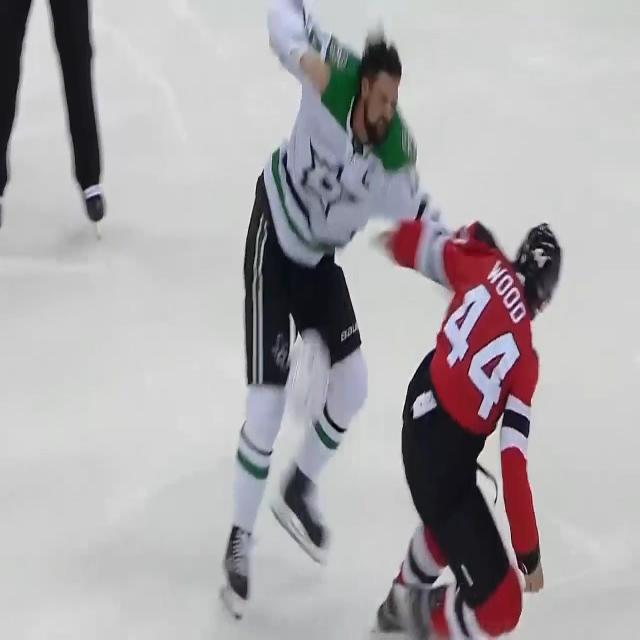fight: (238, 0, 580, 640)
